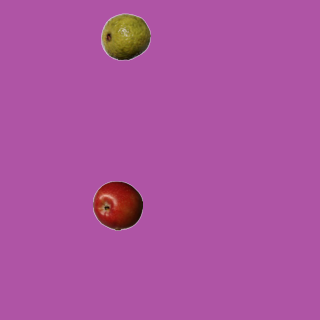Apple Braeburn: (92, 180, 142, 230)
Guava: (100, 11, 150, 61)
